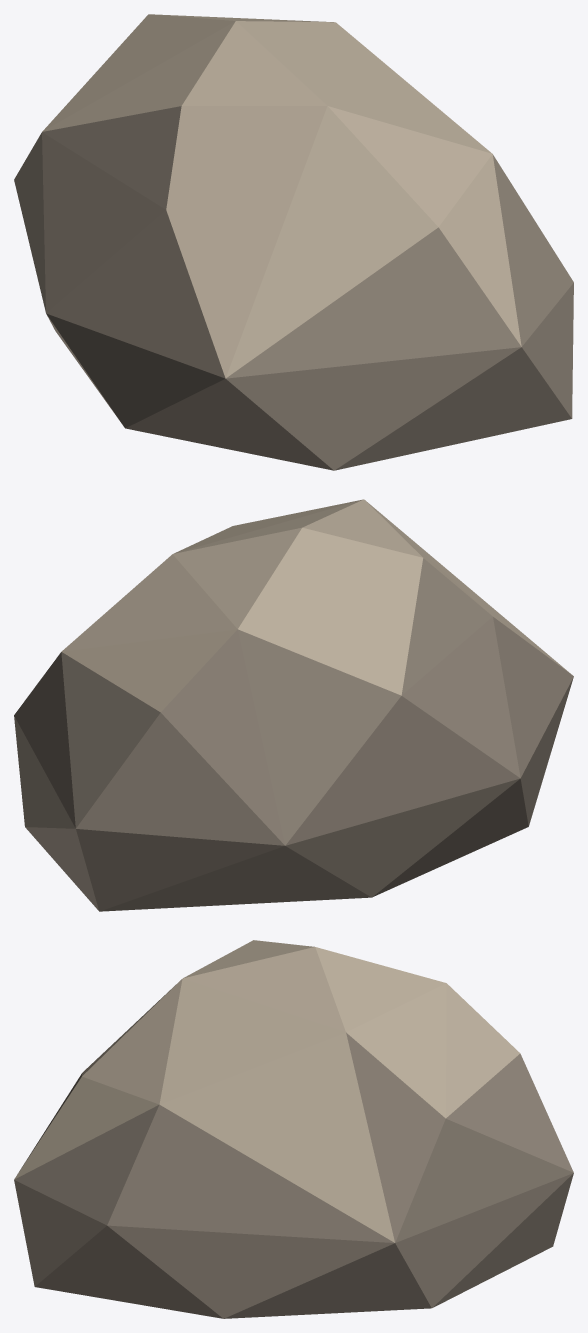
The picture shows the model from 3 angles, top to bottom: view 1: azimuth 30°, elevation 25°; view 2: azimuth 150°, elevation 25°; view 3: azimuth 270°, elevation 25°; orthographic projection. The views are drawn at different scales.
Visible parts, largest first — view 1: G22; view 2: G22; view 3: G22.
Part boxes in pixels (x1=…): G22: x1=14, y1=14, x2=573, y2=470; G22: x1=14, y1=499, x2=573, y2=911; G22: x1=14, y1=940, x2=573, y2=1318.
Size of the model in its own units: 1.3 by 0.85 by 1.6.
